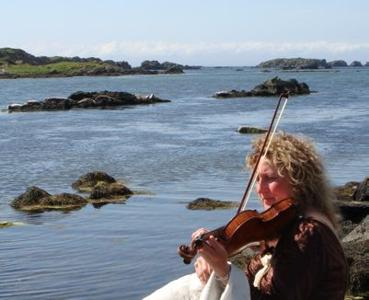person: (193, 132, 350, 300)
